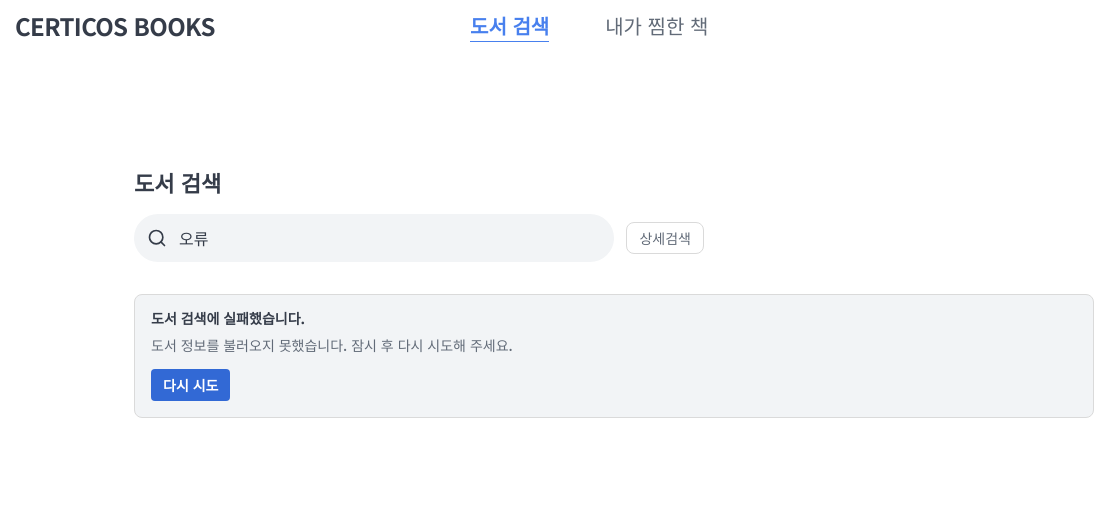
Test: 검색 결과와 추가 로딩 › 500는 한 번만 자동 재시도하고 수동으로 복구한다
Expected: the message "도서 검색에 실패했습니다. 도서 정보를 불러오지 못했습니다. 잠시 후 다시 시도해 주세요. 다시 시도" is shown, 134,294 -> 1094,418
Click the button "다시 시도" at (191, 385), box 151,369 -> 230,401
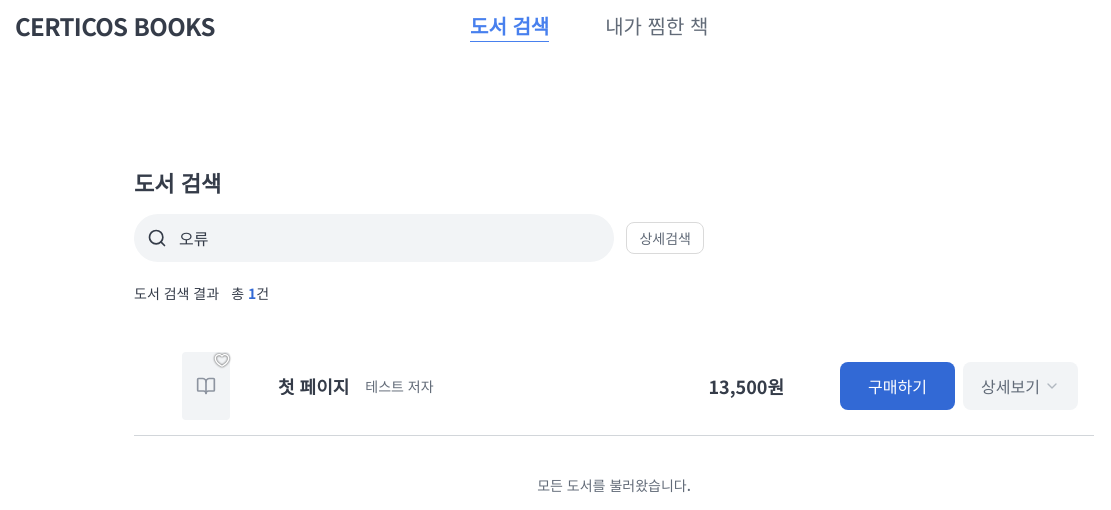
Expected: the message is not shown
Result: the heading "첫 페이지" is shown at 278,376 -> 349,394
